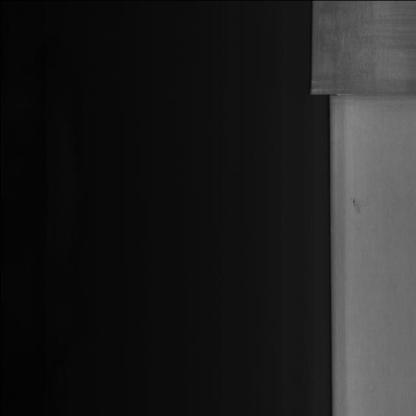welding_line: (304, 82, 414, 106)
